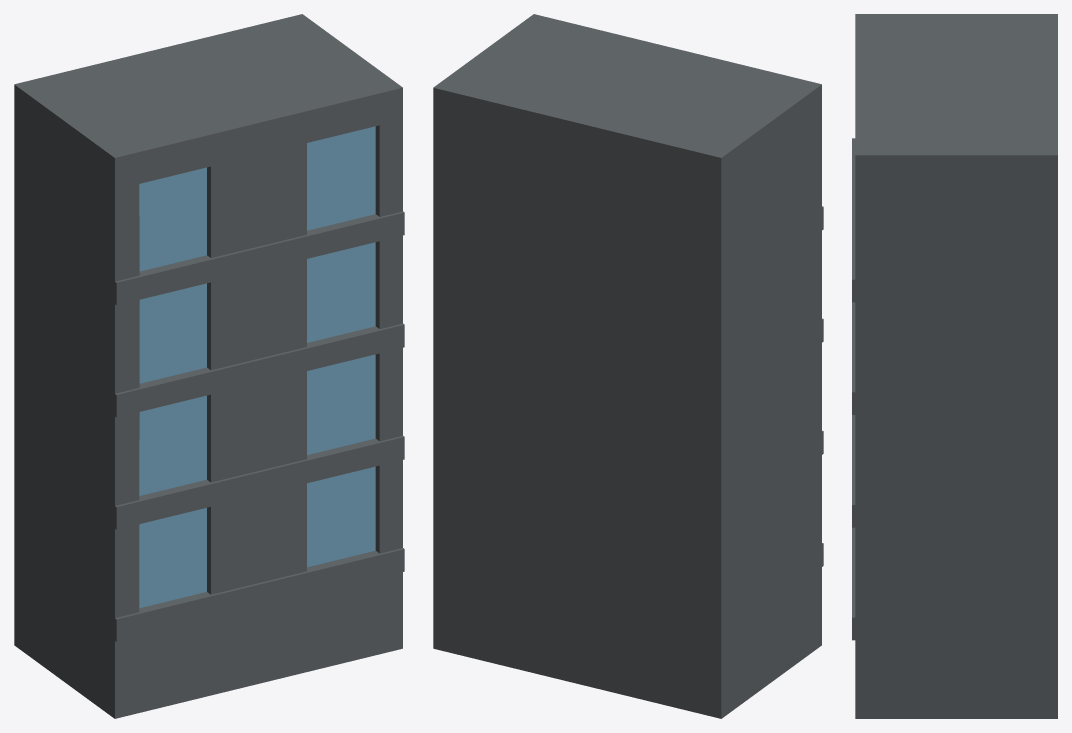
File: BackgroundBuilding_2.fbx
3 renders of one model, left to right at view 1: azimuth 30°, elevation 25°; view 2: azimuth 150°, elevation 25°; view 3: azimuth 270°, elevation 25°, orthographic.
Visible parts, largest first — view 1: Building_2; view 2: Building_2; view 3: Building_2.
Boxes of the visible parts, left/top/right/bottom form: Building_2: left=14, top=14, right=404, bottom=718; Building_2: left=433, top=14, right=823, bottom=718; Building_2: left=852, top=14, right=1057, bottom=718.
Size of the model in its own units: 331 by 615 by 203.
